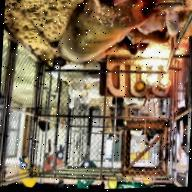boar: (46, 0, 181, 75)
